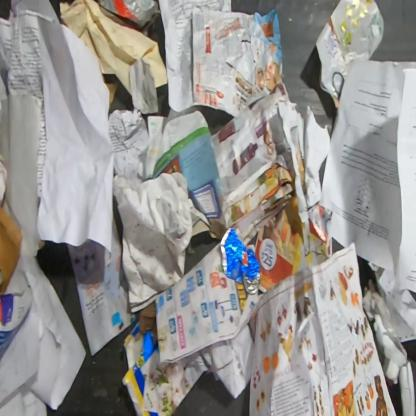cardboard: (143, 105, 230, 240), (121, 320, 215, 415), (314, 0, 384, 110), (0, 268, 33, 361), (0, 205, 23, 296), (139, 300, 156, 337), (104, 81, 119, 109)
metal: (219, 227, 262, 295)
rigid_plastic: (98, 0, 161, 30)
